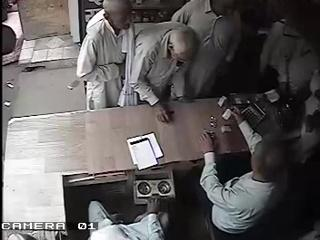Normal: (198, 110, 290, 239), (170, 0, 242, 101), (133, 24, 200, 123), (87, 198, 166, 240)
shoplifting: (74, 0, 134, 110)
